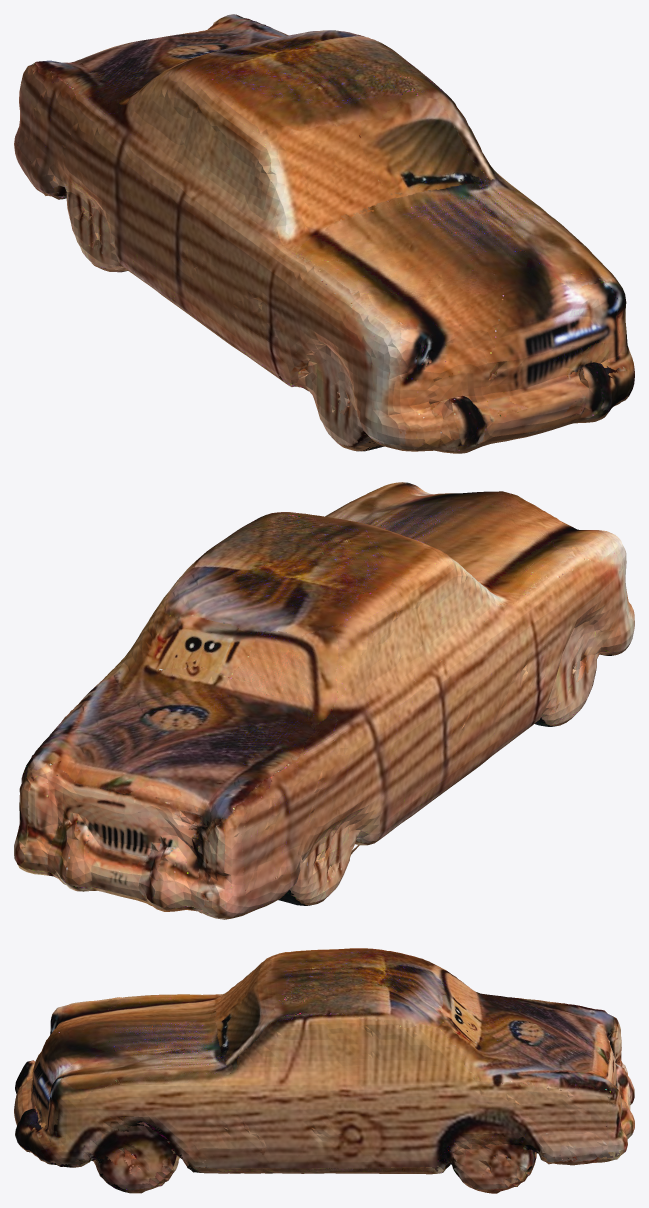
File: wooden_car_m0.glb
The picture shows the model from 3 angles, top to bottom: view 1: azimuth 30°, elevation 25°; view 2: azimuth 150°, elevation 25°; view 3: azimuth 270°, elevation 25°; orthographic projection. The views are drawn at different scales.
Parts seen in each view (by area): view 1: mesh; view 2: mesh; view 3: mesh.
Part boxes in pixels (<box>): mesh: <box>14,14,634,453</box>; mesh: <box>14,482,634,919</box>; mesh: <box>14,948,634,1193</box>.
Bounding box in the file's own units: 0.4278 × 0.3798 × 1.17.
Materials: 1 (1 with a texture image).
